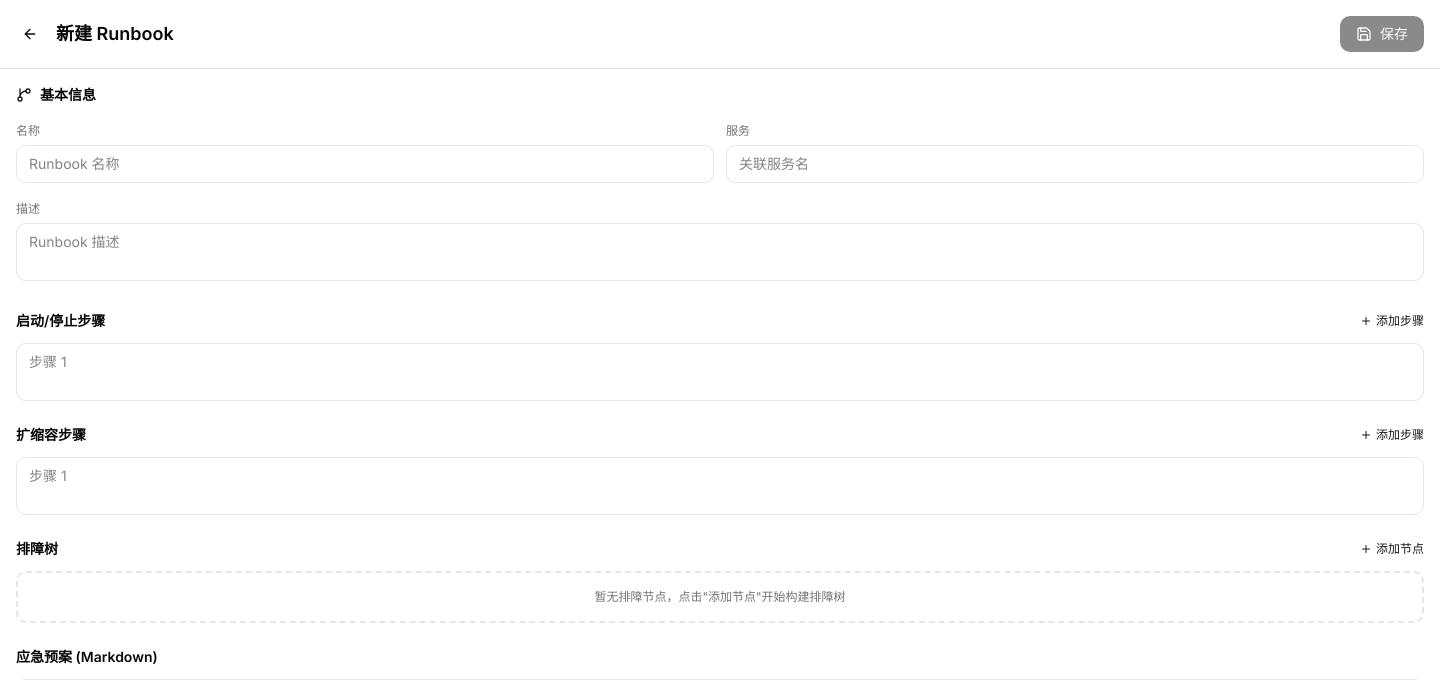
Scenario: RunbookEditor › enables save button when name has content
Step 1. Type "New Runbook" into the field with placeholder "Runbook 名称" → (365, 164), box [16,145,714,183]
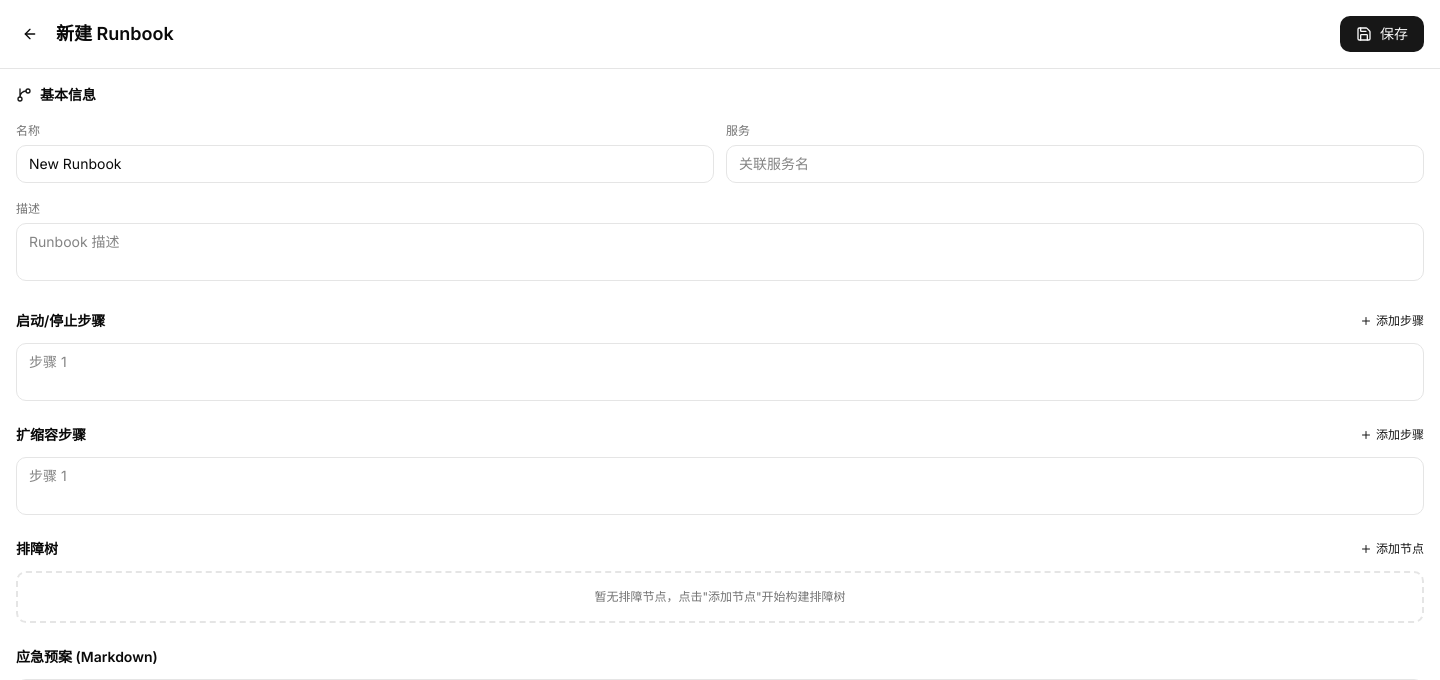
Expected: the button "保存" is enabled, [1340,16,1424,52]
